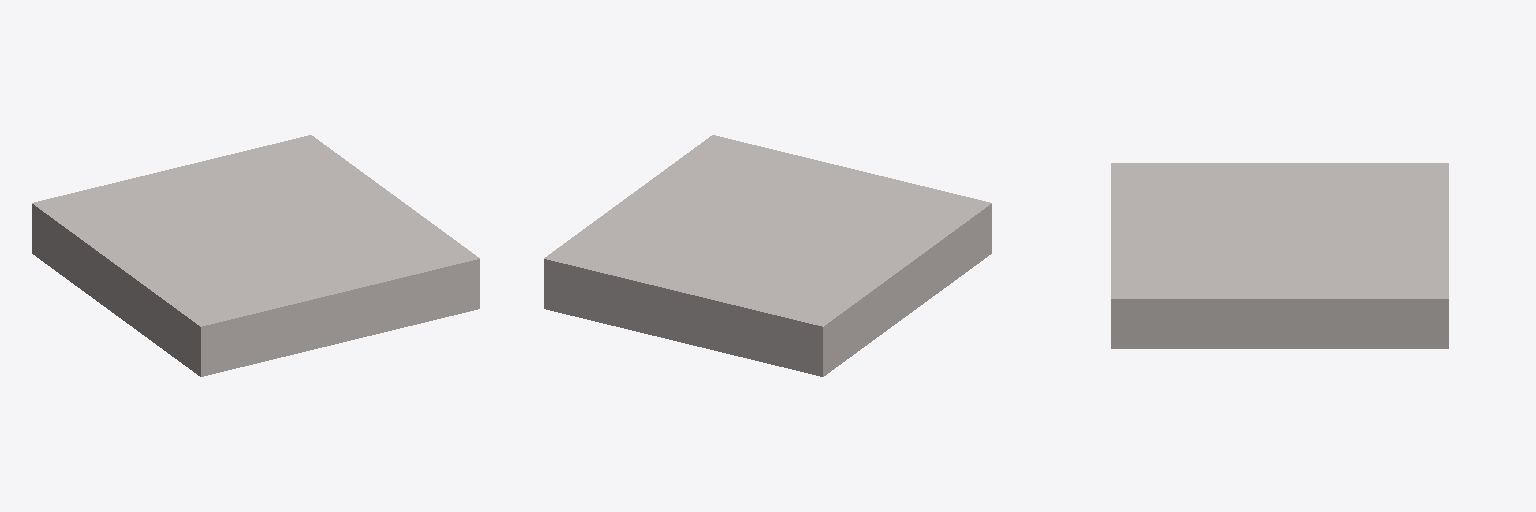
The model's file is ceiling.obj.
The picture shows the model from 3 angles: view 1: azimuth 30°, elevation 25°; view 2: azimuth 150°, elevation 25°; view 3: azimuth 270°, elevation 25°; orthographic projection.
Parts seen in each view (by area): view 1: 立方体.027; view 2: 立方体.027; view 3: 立方体.027.
Boxes of the visible parts, box(x1,y1,x2,y2) form: 立方体.027: box(32, 135, 479, 376); 立方体.027: box(544, 135, 991, 376); 立方体.027: box(1111, 163, 1448, 348).
Size of the model in its own units: 11.64 by 2 by 12.2.